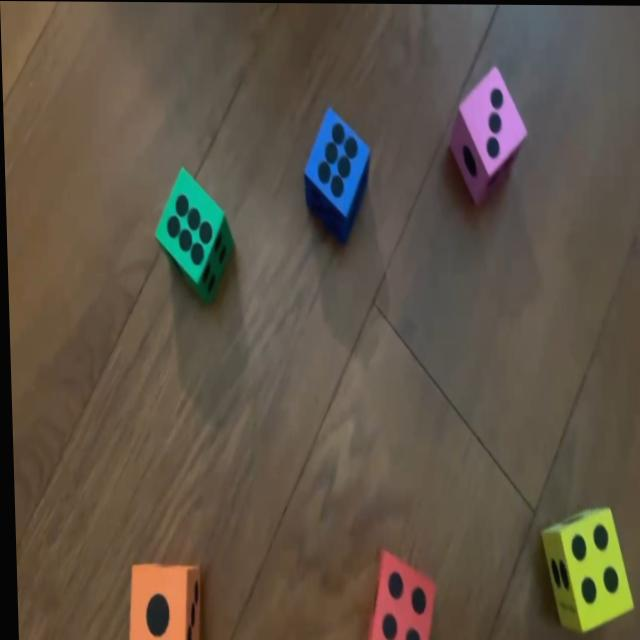cube: (153, 163, 232, 300), (301, 103, 369, 240), (363, 548, 432, 640)
